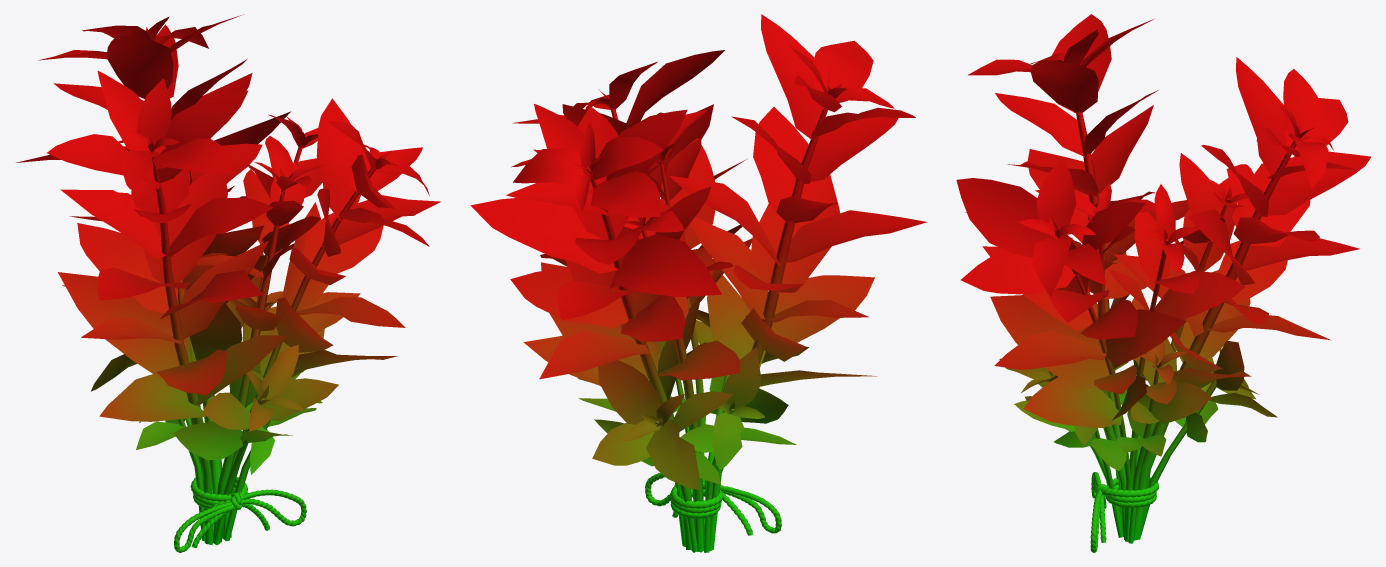
Rendered from Var8_LOD2.fbx.
3 renders of one model, left to right at view 1: azimuth 30°, elevation 25°; view 2: azimuth 150°, elevation 25°; view 3: azimuth 270°, elevation 25°, orthographic. The views are drawn at different scales.
Visible parts, largest first — view 1: _agxw_Var8_LOD2; view 2: _agxw_Var8_LOD2; view 3: _agxw_Var8_LOD2.
Part boxes in pixels (bbox=[...]): _agxw_Var8_LOD2: bbox=[16, 14, 440, 552]; _agxw_Var8_LOD2: bbox=[470, 14, 927, 552]; _agxw_Var8_LOD2: bbox=[956, 14, 1370, 552].
Bounding box in the file's own units: 23.47 × 28.74 × 22.75.
